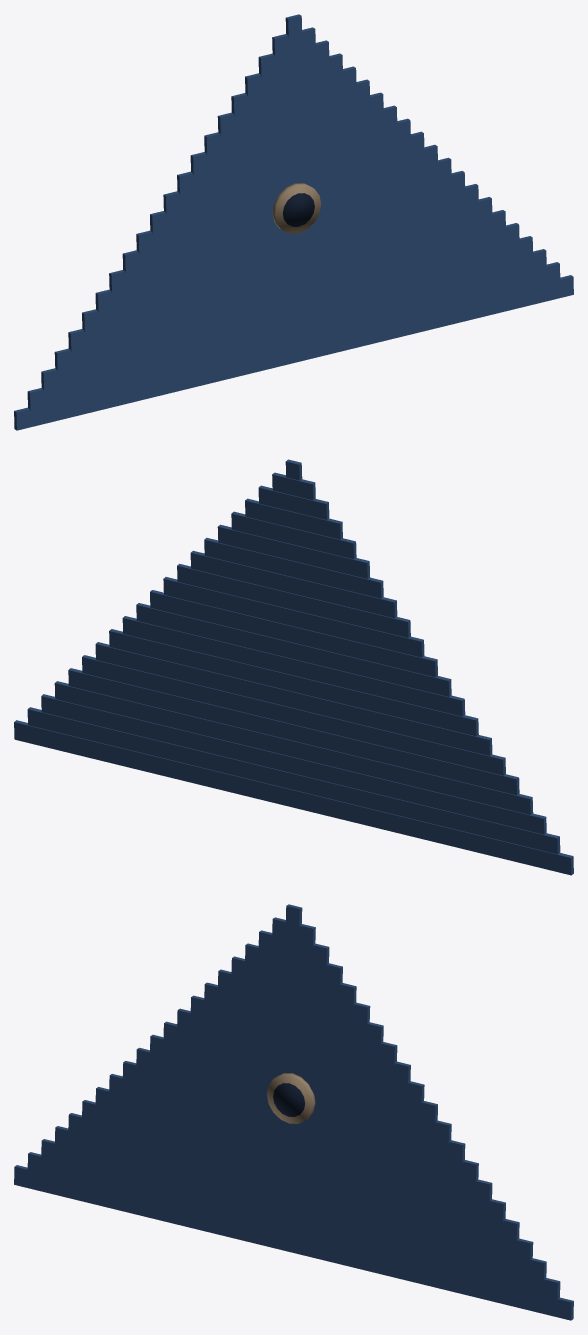
The model's file is kit_clapboard_gable_w4.glb.
The picture shows the model from 3 angles, top to bottom: view 1: azimuth 30°, elevation 25°; view 2: azimuth 150°, elevation 25°; view 3: azimuth 330°, elevation 25°; orthographic projection.
Parts seen in each view (by area): view 1: kit_clapboard_gable_w4; view 2: kit_clapboard_gable_w4; view 3: kit_clapboard_gable_w4.
Boxes of the visible parts, box(x1,y1,x2,y2) form: kit_clapboard_gable_w4: box(14, 14, 573, 430); kit_clapboard_gable_w4: box(14, 459, 573, 875); kit_clapboard_gable_w4: box(14, 904, 573, 1320).
Bounding box in the file's own units: 3.9 × 2.31 × 0.0821.
